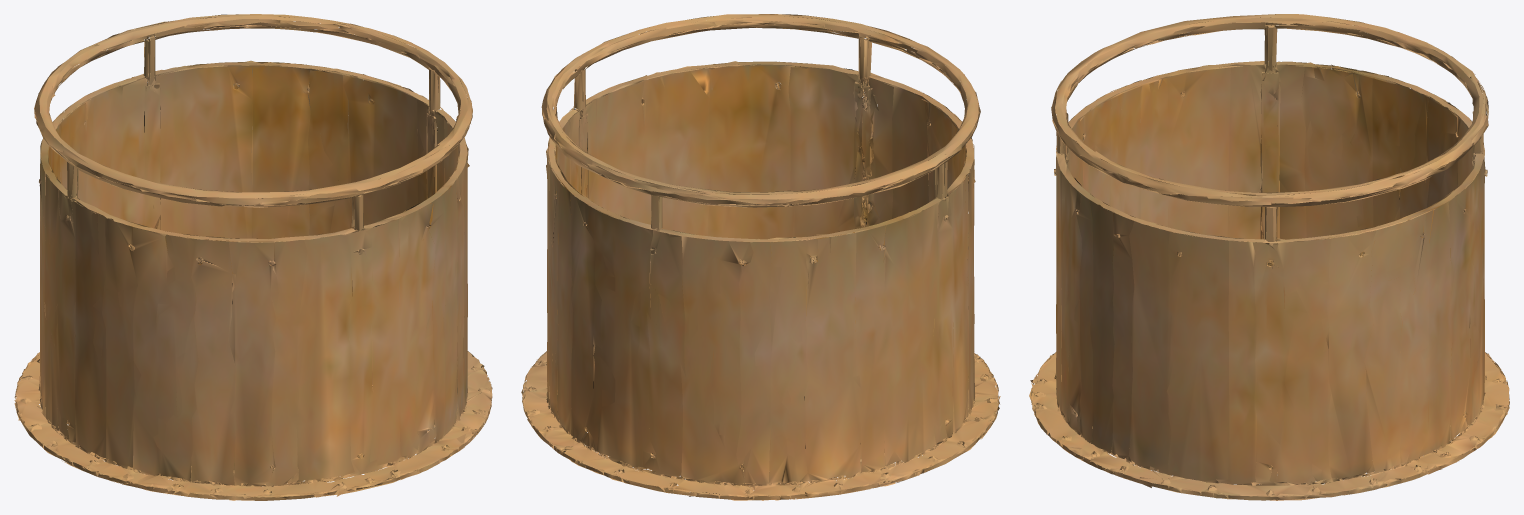
The model's file is lift_cage.glb.
The picture shows the model from 3 angles, left to right: view 1: azimuth 30°, elevation 25°; view 2: azimuth 150°, elevation 25°; view 3: azimuth 270°, elevation 25°; orthographic projection.
Visible parts, largest first — view 1: lift_cage_body; view 2: lift_cage_body; view 3: lift_cage_body.
Part boxes in pixels (box(x1,y1,x2,y2)): lift_cage_body: box(14, 14, 492, 500); lift_cage_body: box(521, 14, 1000, 500); lift_cage_body: box(1029, 14, 1509, 500).
Bounding box in the file's own units: 2.8 × 1.92 × 2.81.
Materials: 1 (1 with a texture image).
